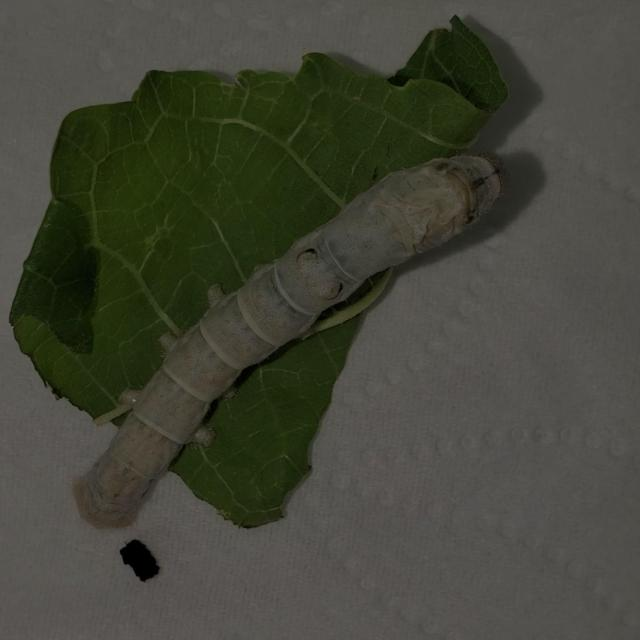Healthy: (51, 134, 542, 574)
